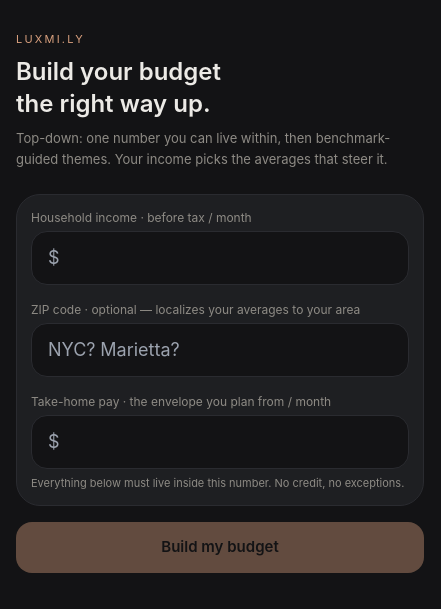
App — an optimizer, not a tracker › shows the cohort before building
Type "10000" into the number field named "Household income before tax per month" at (220, 258), box [31,231,409,285]
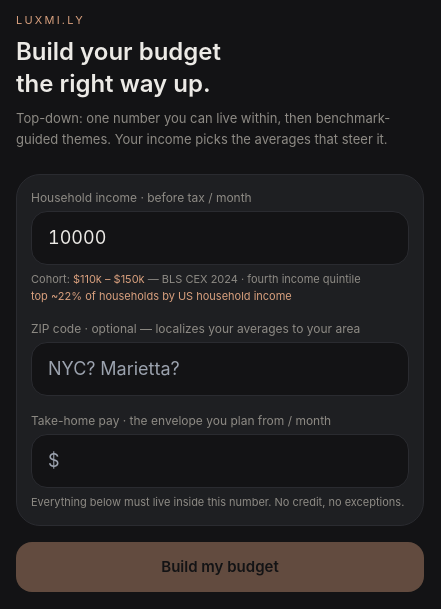
Check: the text "$110k – $150k" is shown, box [73,272,145,286]
Check: the text "top ~22% of households by US household income" is shown, box [31,289,292,303]
